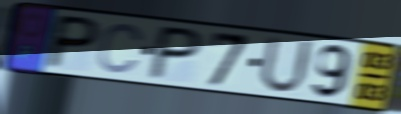7: (207, 29, 250, 89)
9: (310, 42, 356, 100)
C: (95, 21, 147, 75)
P: (41, 12, 104, 70), (144, 24, 206, 82)
U: (256, 34, 316, 97)
